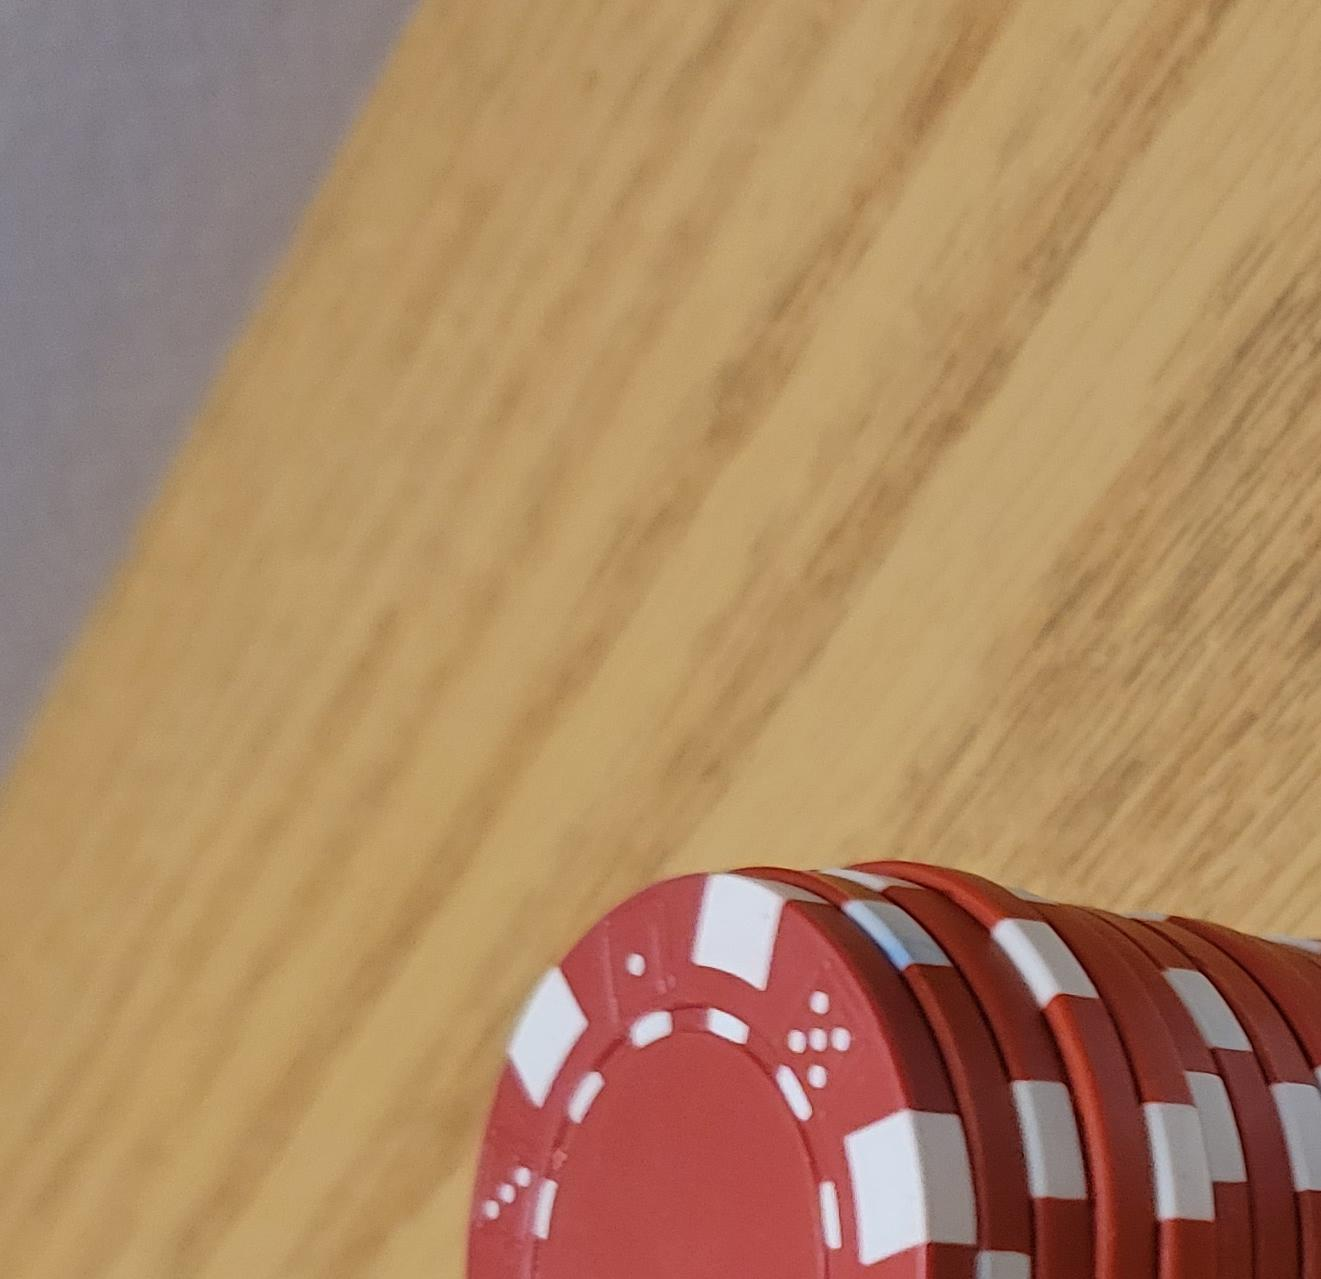Chip: (1, 78, 860, 1279)
